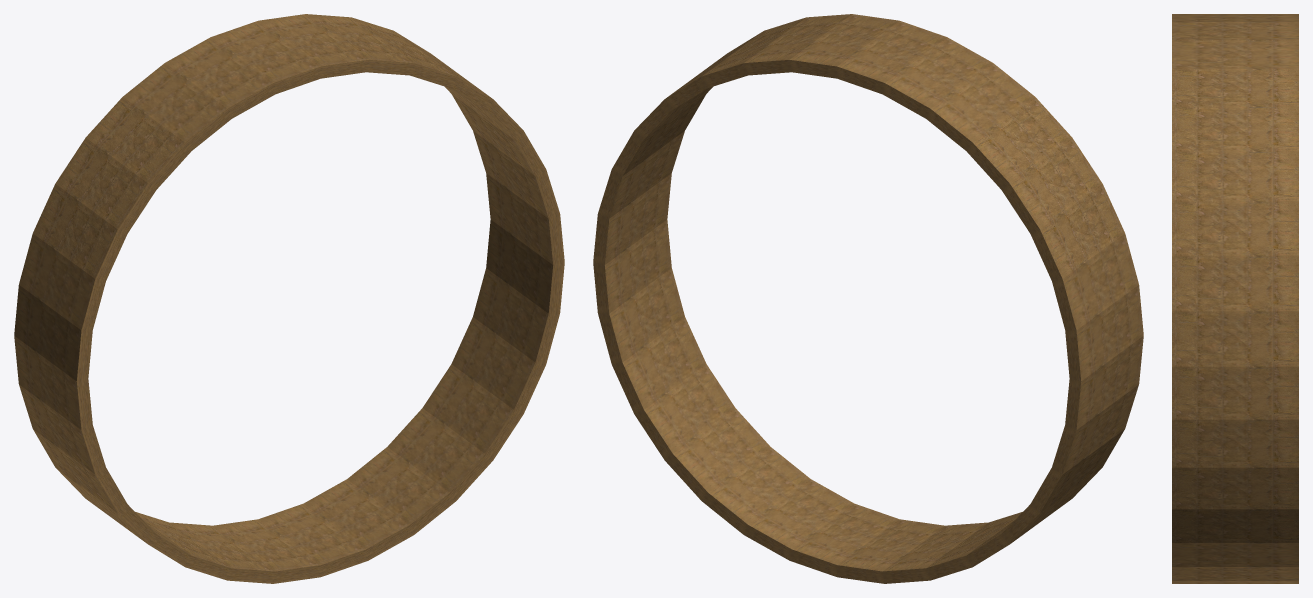
File: ClockRing.dae
3 renders of one model, left to right at view 1: azimuth 30°, elevation 25°; view 2: azimuth 150°, elevation 25°; view 3: azimuth 270°, elevation 25°, orthographic.
Visible parts, largest first — view 1: Circle; view 2: Circle; view 3: Circle.
Part boxes in pixels (x1,y1,x2,y2): Circle: [14, 14, 564, 583]; Circle: [593, 14, 1143, 583]; Circle: [1172, 14, 1298, 583].
Size of the model in its own units: 90 by 20 by 90.
